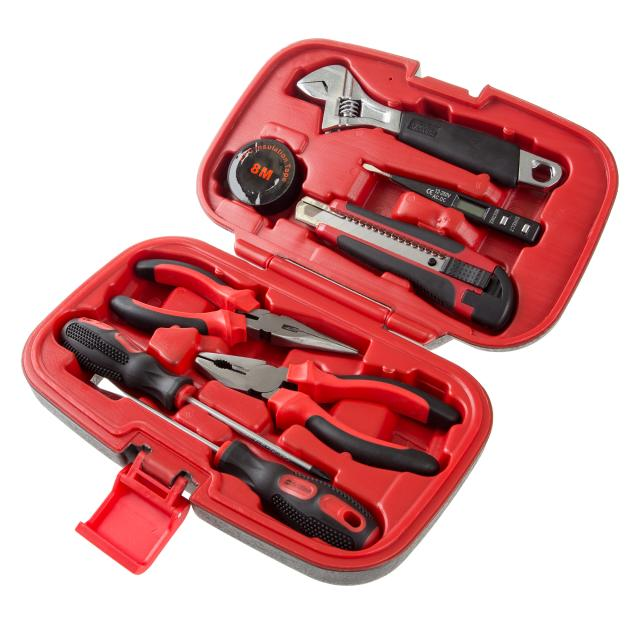Screwdriver: (90, 373, 381, 551), (59, 317, 332, 481)
